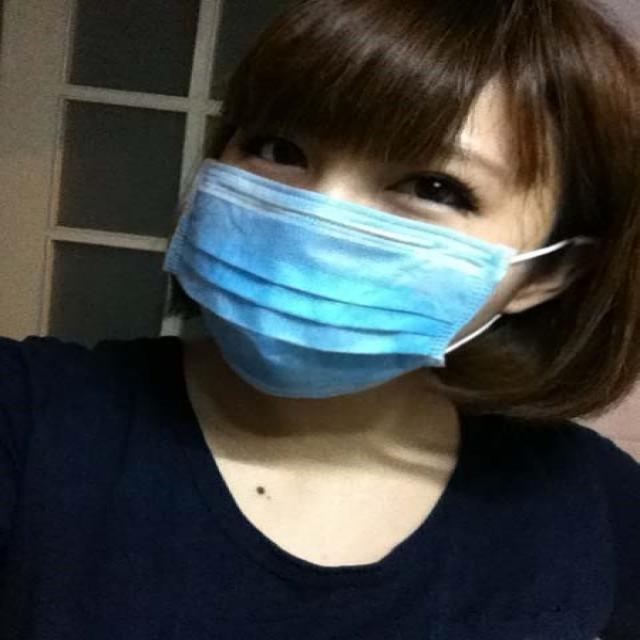mask: (167, 83, 513, 399)
